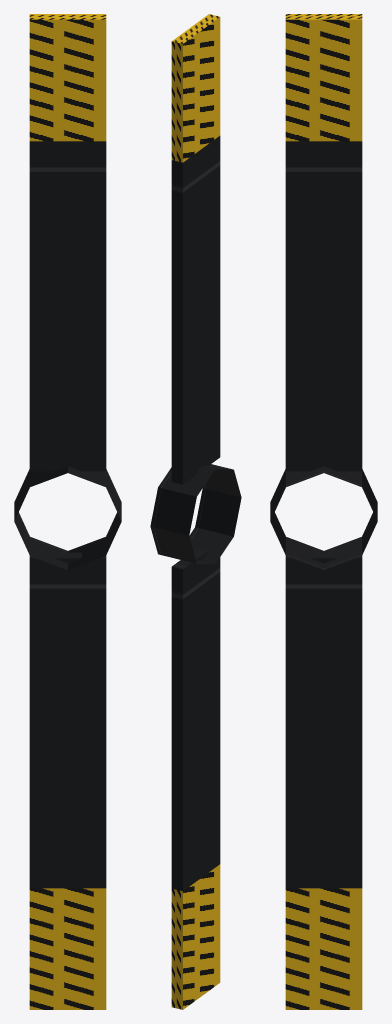
Rendered from helicopter_tailrotor.obj.
The picture shows the model from 3 angles, left to right: view 1: azimuth 90°, elevation 25°; view 2: azimuth 150°, elevation 25°; view 3: azimuth 270°, elevation 25°; orthographic projection. The views are drawn at different scales.
Visible parts, largest first — view 1: HelicopterPart; view 2: HelicopterPart; view 3: HelicopterPart.
Part boxes in pixels (x1=…): HelicopterPart: x1=14, y1=14, x2=121, y2=1009; HelicopterPart: x1=150, y1=14, x2=241, y2=1009; HelicopterPart: x1=270, y1=14, x2=377, y2=1009.
Bounding box in the file's own units: 0.12 × 2.85 × 0.28.
Materials: 1 (1 with a texture image).
